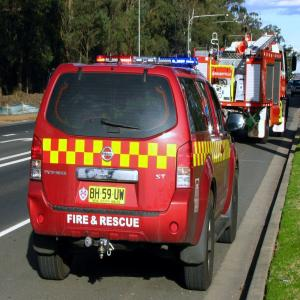Vehicle-registration-plate: (89, 186, 127, 206)
